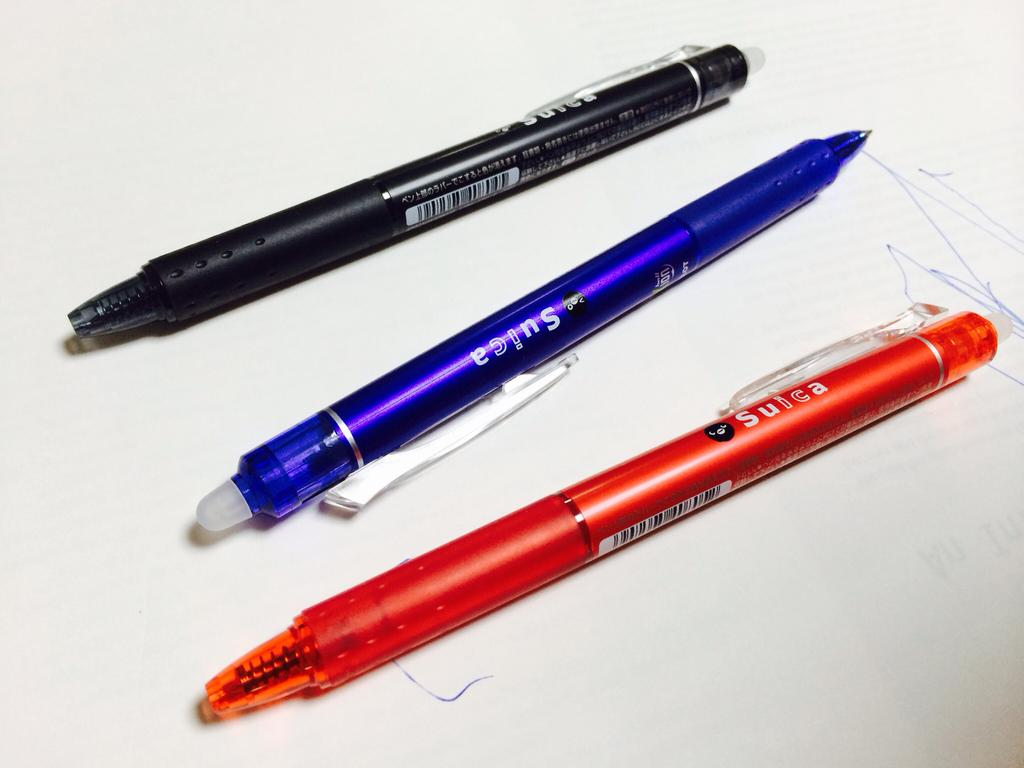pen: (195, 289, 1010, 727), (65, 41, 765, 342)
